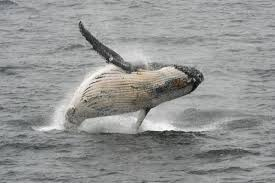humpback: (65, 62, 203, 129)
